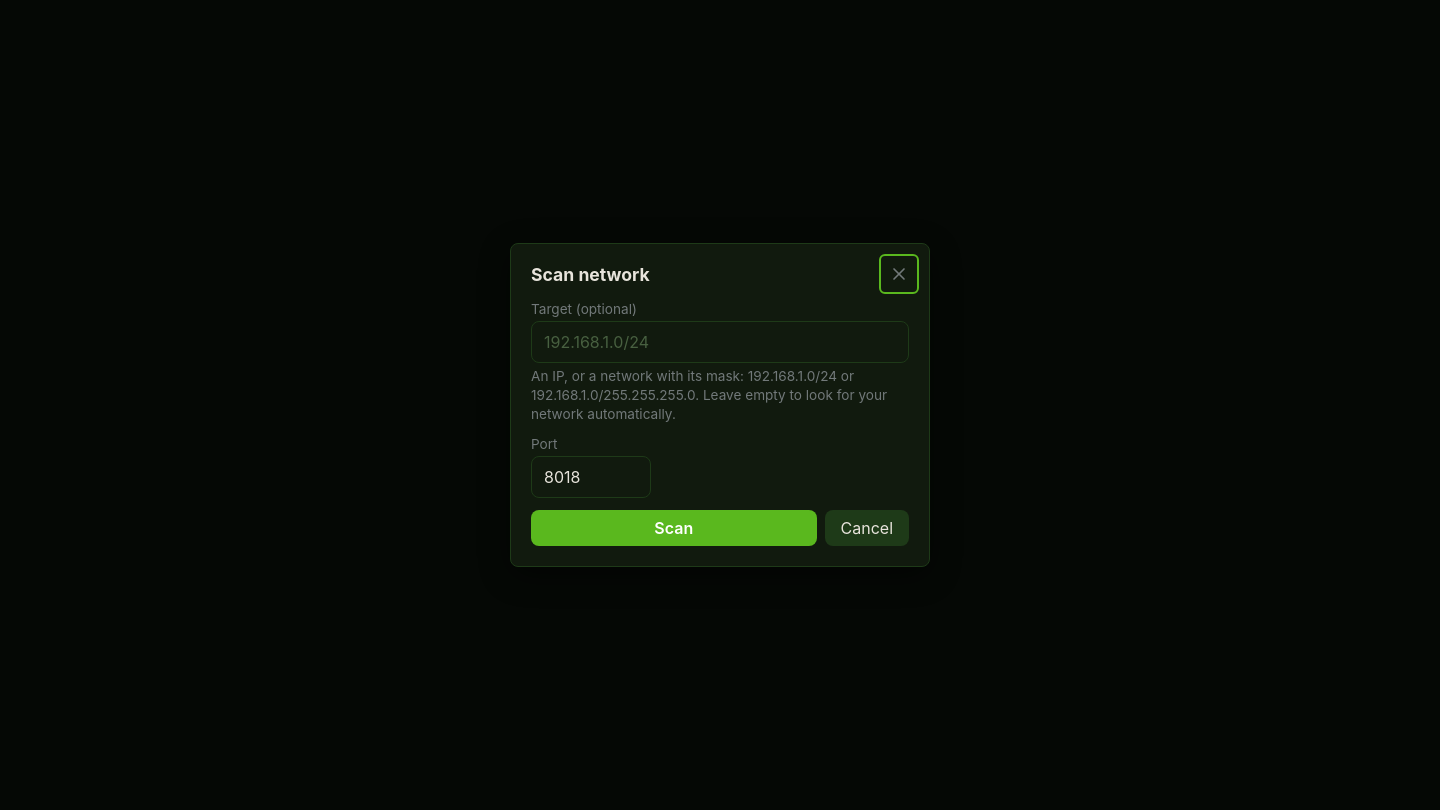
Test: ScanModal — scanning › with no target, scans the network of the instances in the list
Click the button "Scan".
click(674, 528)  # box [531,510,816,546]
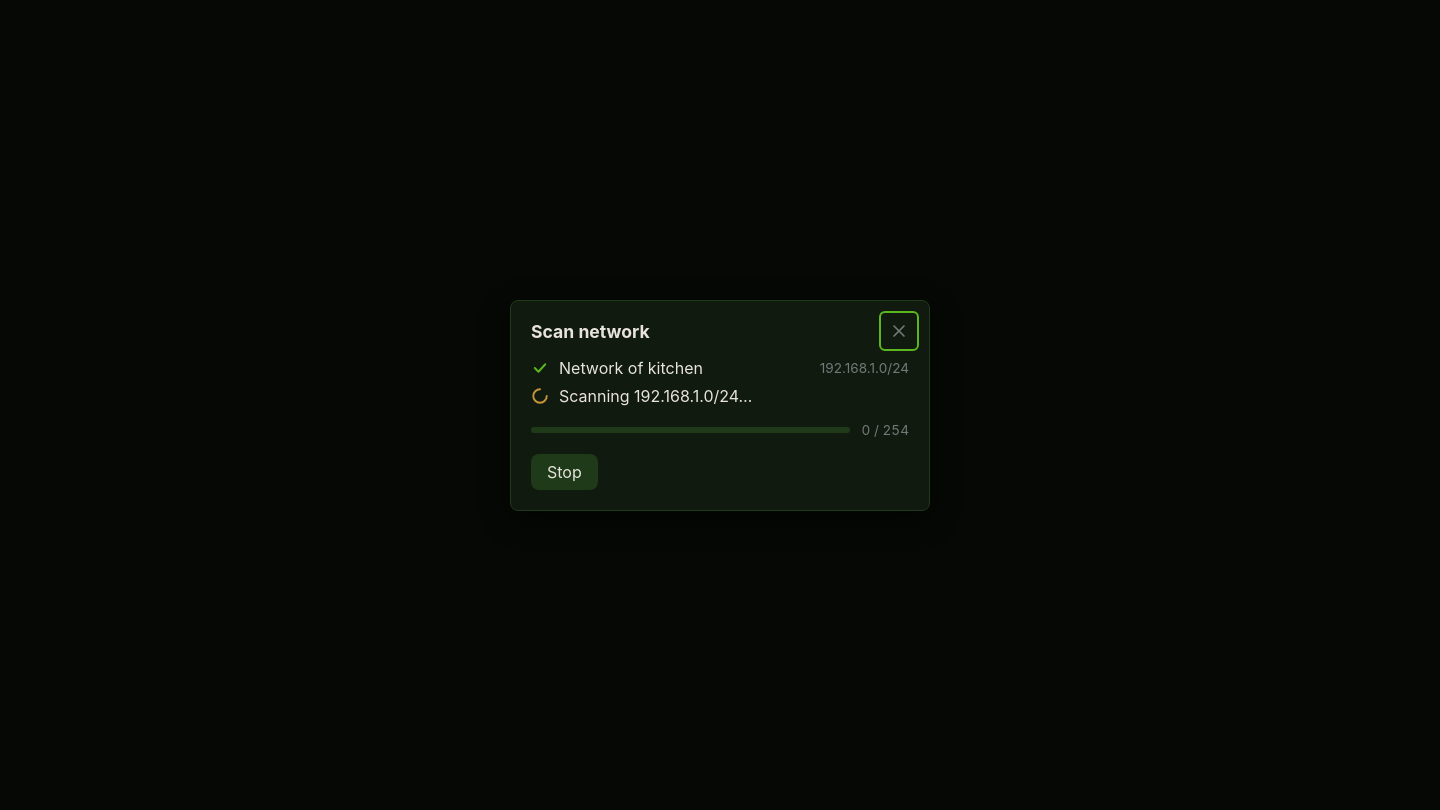
Check: the text "Network of kitchen" is shown, box [559,358,703,378]
Check: the text "Scanning 192.168.1.0/24…" is shown, box [559,386,752,406]
Check: the text "0 / 254" is shown, box [862,422,909,438]
